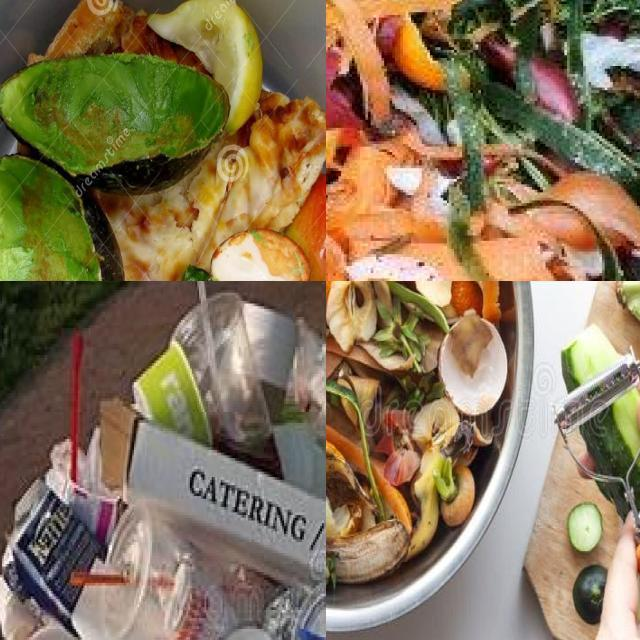Disposable: (74, 502, 233, 640), (172, 292, 271, 456)
Garbage: (0, 281, 326, 640), (0, 0, 326, 281), (326, 0, 640, 281), (326, 281, 521, 605)
Plastic_Container: (132, 341, 213, 444)
Plastic_Straw: (70, 330, 83, 482), (70, 572, 131, 586), (197, 281, 207, 304)
